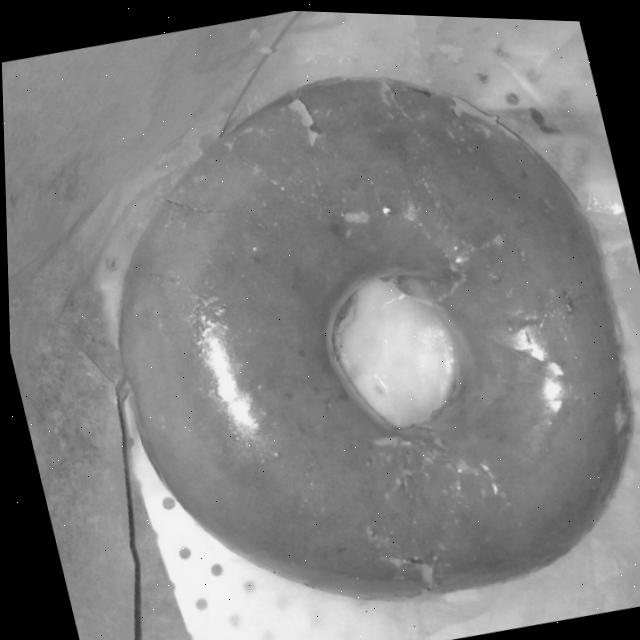炸货点心: (30, 1, 640, 640)
